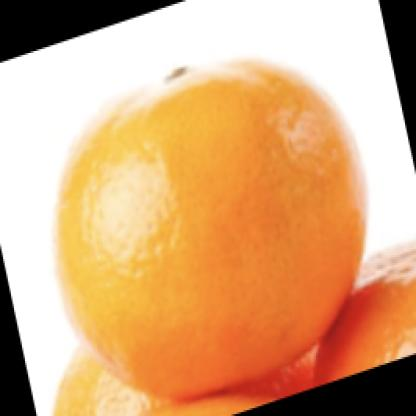fresh: (58, 65, 368, 393)
